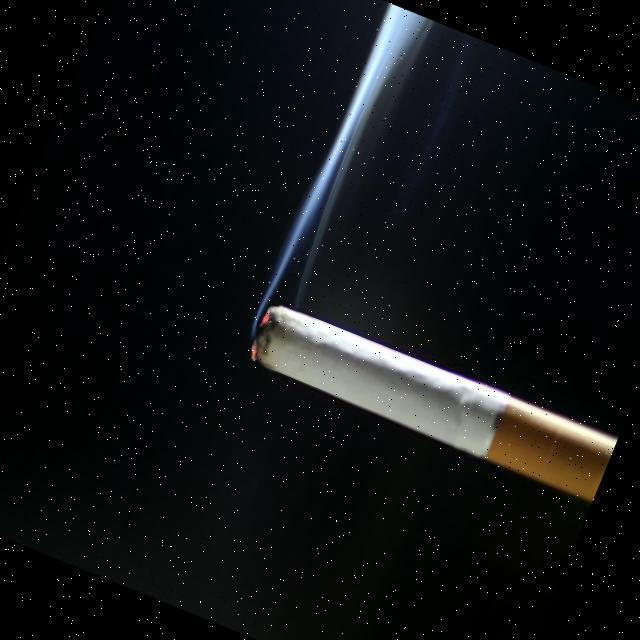cigarette: (233, 290, 619, 508)
